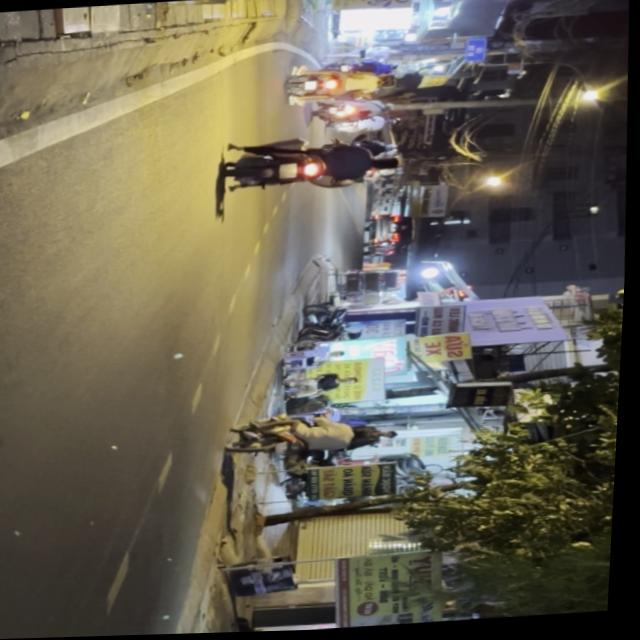licenseplate: (221, 133, 409, 198)
motorcyclist: (373, 156, 405, 174)
nohelmet: (281, 163, 301, 180)
